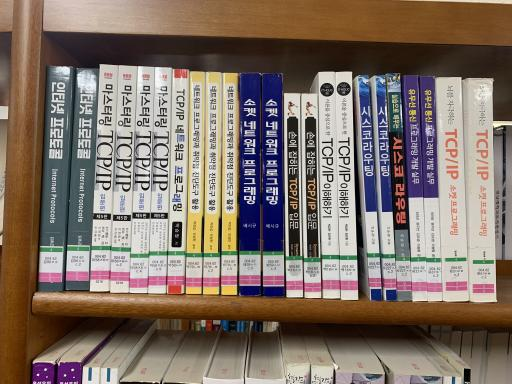book-spine: (37, 66, 73, 291), (65, 68, 100, 290), (435, 77, 469, 301), (89, 64, 118, 292), (468, 78, 496, 302), (110, 65, 137, 293), (130, 66, 155, 293), (148, 68, 172, 294), (387, 74, 411, 300), (358, 75, 382, 300), (336, 71, 358, 300), (405, 75, 427, 302), (376, 75, 398, 301), (421, 76, 443, 302), (166, 69, 188, 294), (262, 74, 284, 297), (319, 72, 340, 298), (240, 73, 260, 296), (186, 72, 205, 294), (302, 94, 322, 298), (203, 72, 221, 295), (285, 93, 303, 297), (223, 73, 238, 295)
